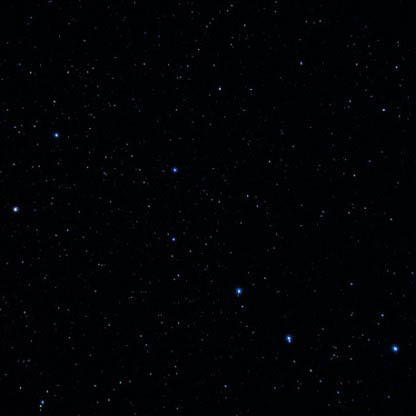Ursa Major: (382, 335, 408, 362), (163, 156, 186, 183), (229, 278, 250, 302), (276, 326, 298, 348), (6, 198, 23, 224), (49, 122, 64, 149), (163, 228, 182, 249)
